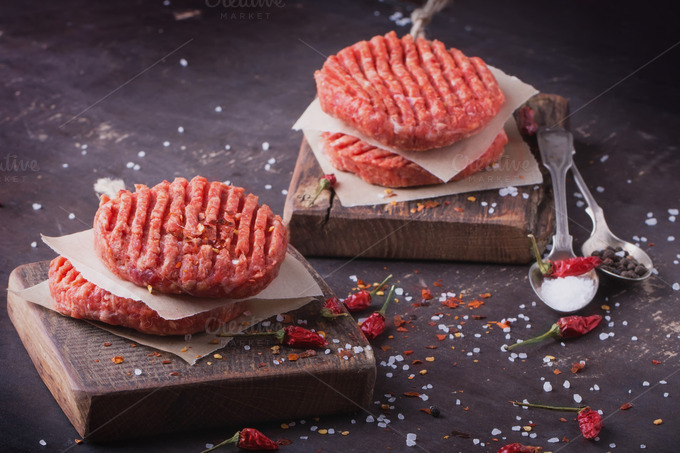ground_beef: (20, 176, 306, 342), (308, 27, 527, 209)
